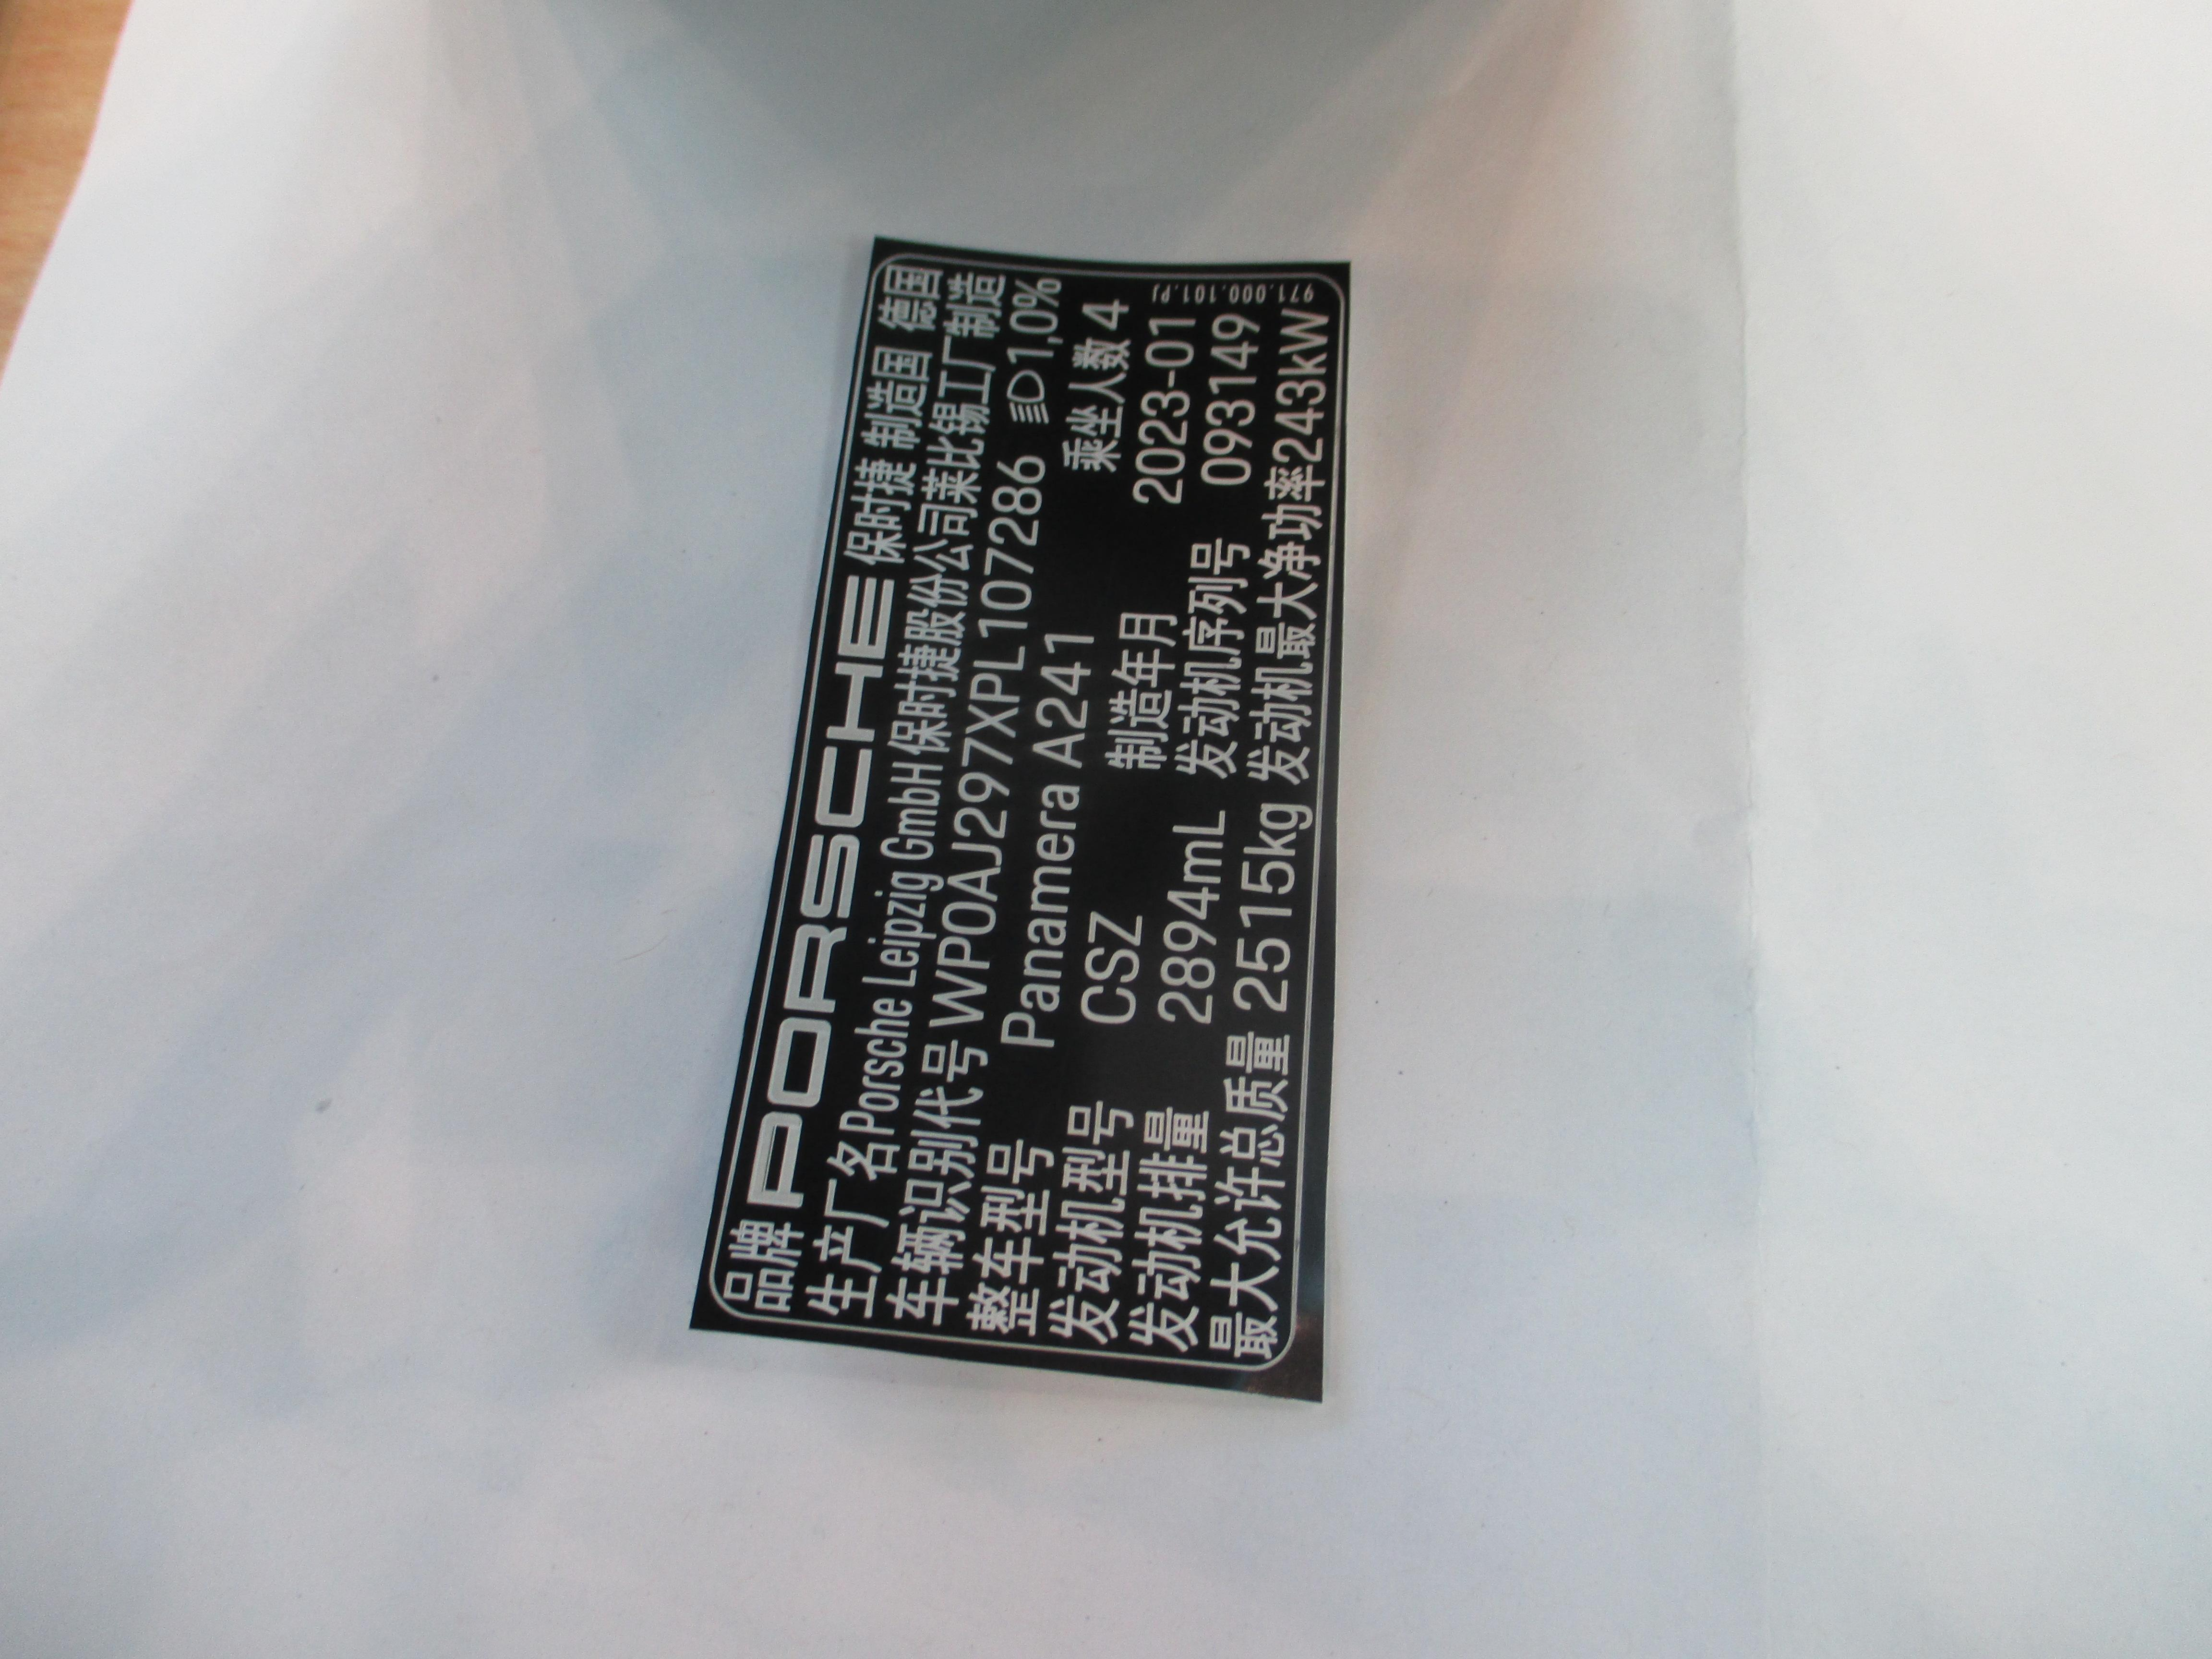Typlabel-China: (716, 260, 1339, 1364)
